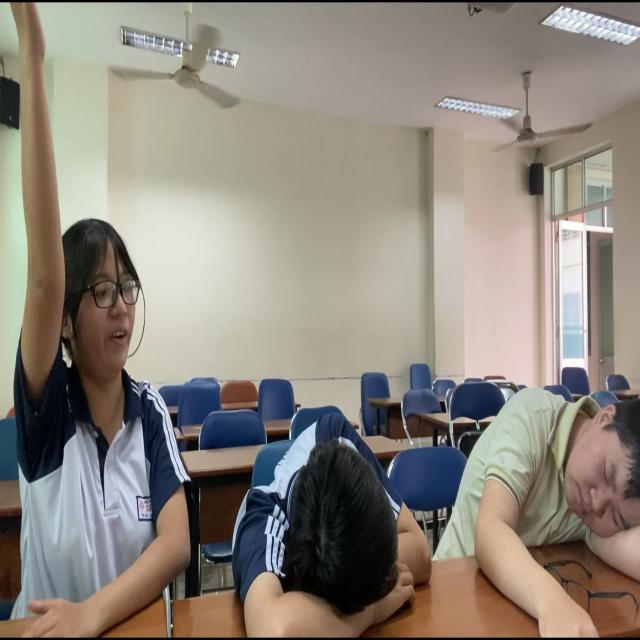raise_hand: (1, 2, 213, 640)
sleep: (215, 398, 458, 640), (442, 383, 640, 640)
